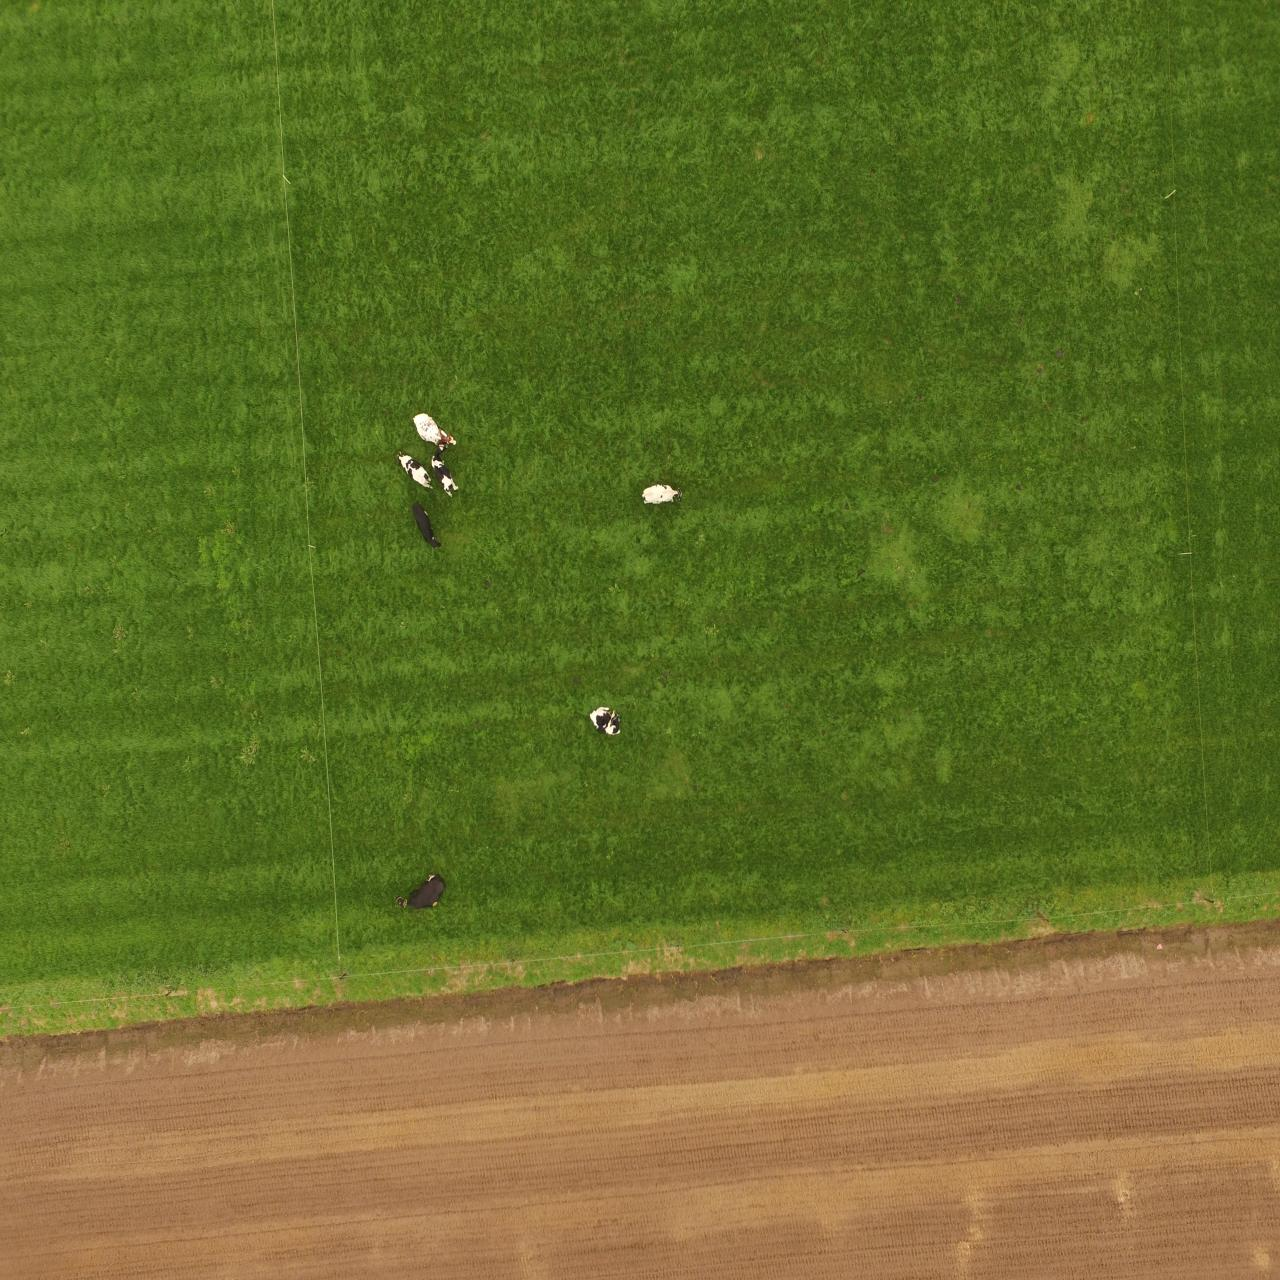cow: (395, 870, 450, 915), (406, 496, 448, 553), (413, 413, 464, 455), (427, 449, 464, 498), (587, 697, 625, 742), (394, 454, 434, 490), (635, 482, 682, 511)
